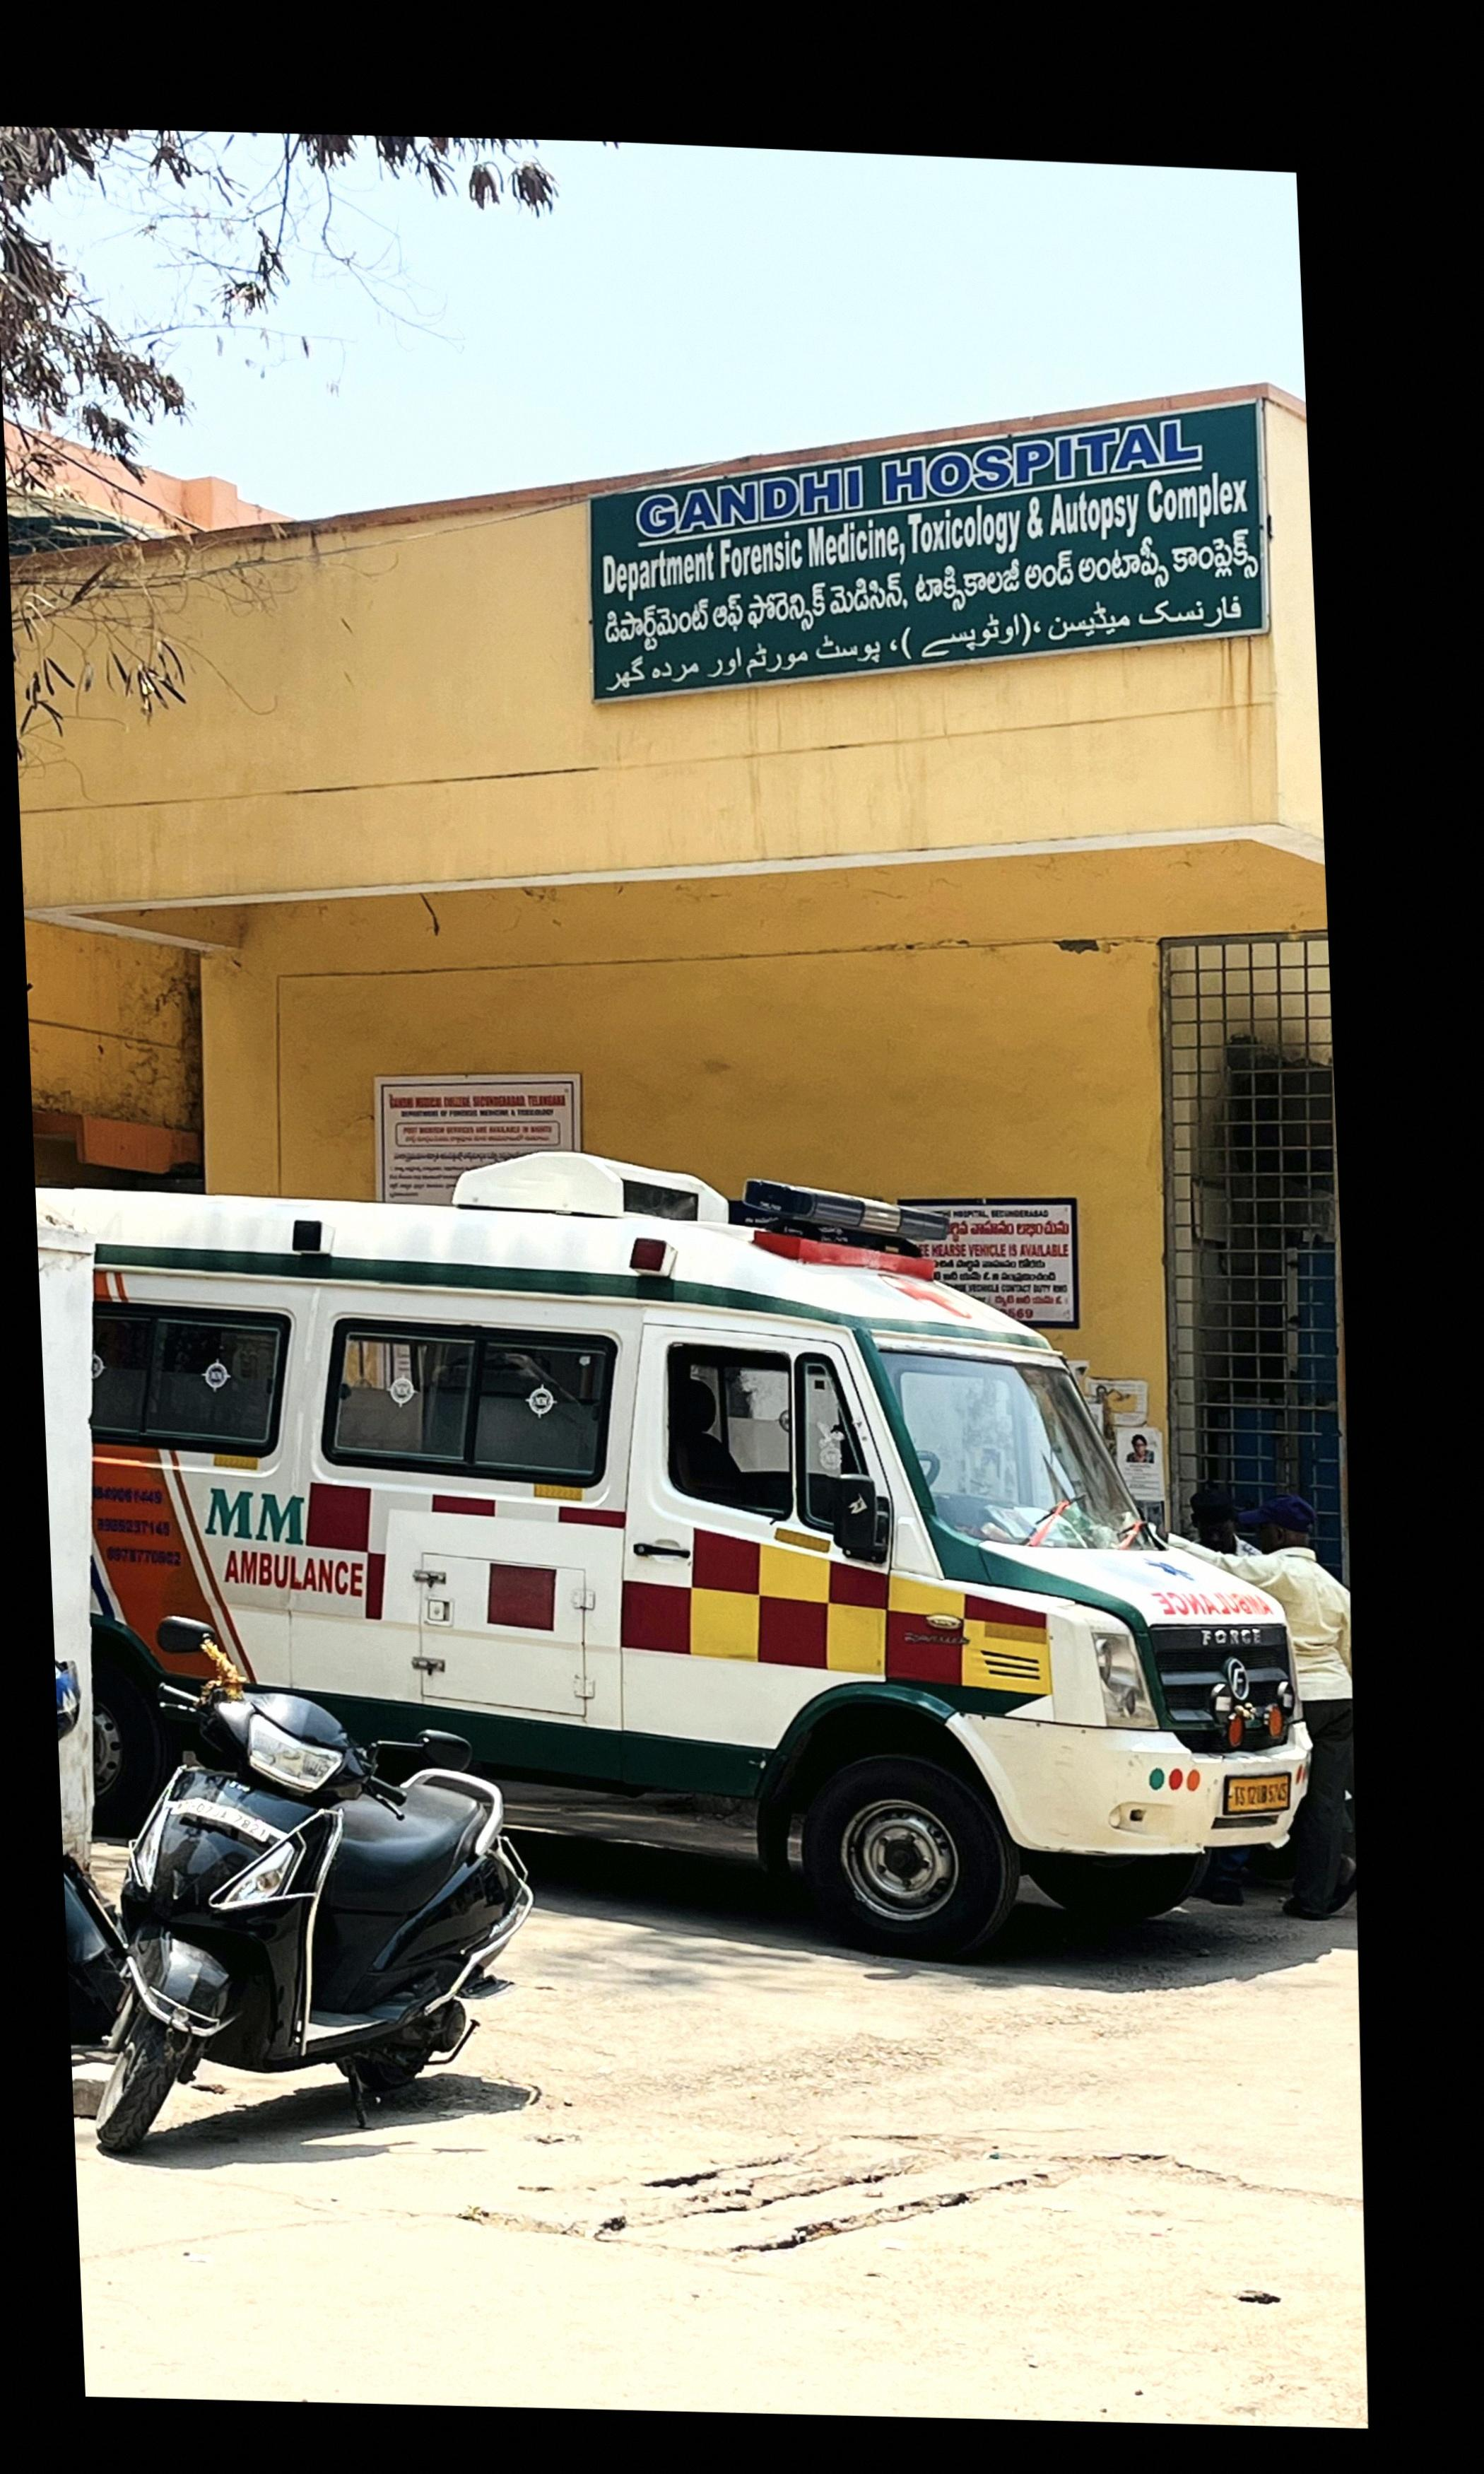ambulance: (79, 1161, 1353, 1969)
